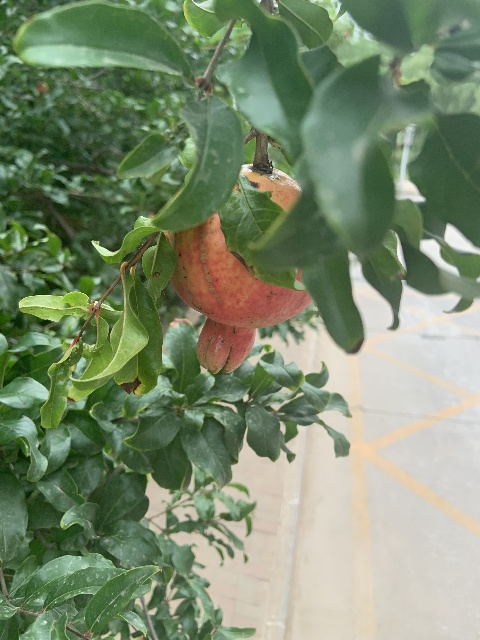ripe: (164, 163, 313, 375)
